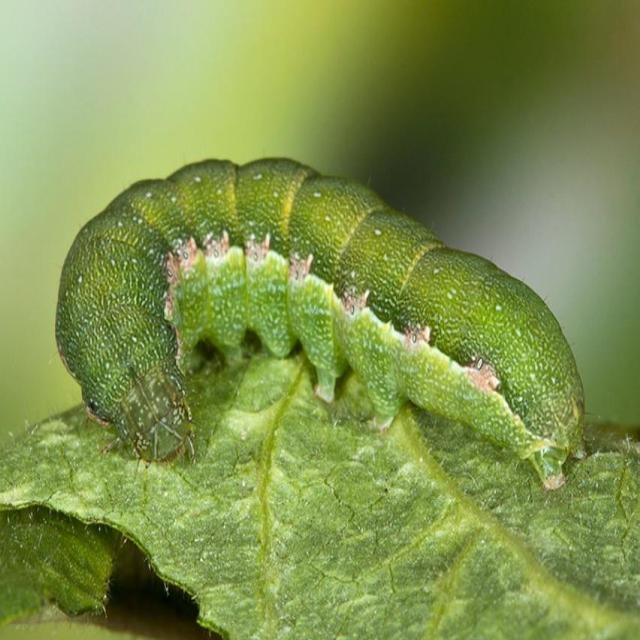BeetArmyWorm-Larva-: (51, 152, 590, 493)
